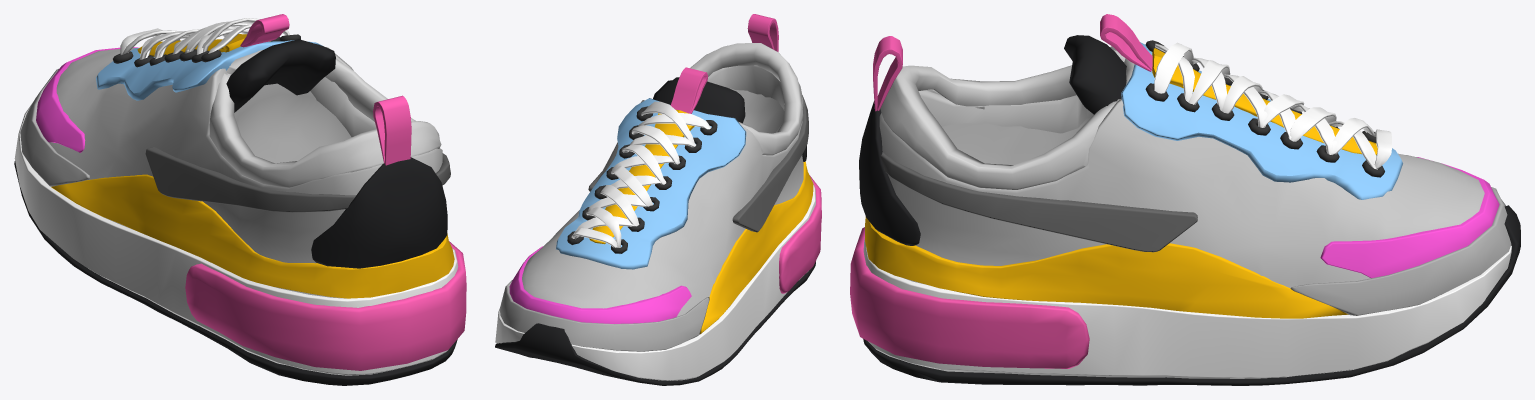
File: Air Max Dia.fbx
3 renders of one model, left to right at view 1: azimuth 30°, elevation 25°; view 2: azimuth 150°, elevation 25°; view 3: azimuth 270°, elevation 25°, orthographic. The views are drawn at different scales.
Visible parts, largest first — view 1: shose_Body, Back_Sole, polySurface337, Back, Upper, Shose_Cover, Logo, Upper1, Lower_Sole4, Lace_Panel, Shose_Lace, Bottom (+5 smaller); view 2: shose_Body, Lace_Panel, Shose_Lace, Bottom, polySurface337, Upper, Top, Lower_Sole4, Logo, Back_Sole, Clinders, Upper1 (+4 smaller); view 3: shose_Body, polySurface337, Back_Sole, Upper, Lace_Panel, Logo, Shose_Lace, Bottom, Lower_Sole4, Top, Back, Shose_Cover (+5 smaller).
Part boxes in pixels (bbox=[...]): shose_Body: bbox=[14, 47, 458, 375]; Back_Sole: bbox=[185, 241, 466, 370]; polySurface337: bbox=[51, 174, 454, 298]; Back: bbox=[311, 157, 447, 268]; Upper: bbox=[209, 59, 441, 188]; Shose_Cover: bbox=[234, 83, 351, 163]; Logo: bbox=[145, 147, 450, 212]; Upper1: bbox=[226, 39, 335, 112]; Lower_Sole4: bbox=[14, 161, 457, 385]; Lace_Panel: bbox=[96, 40, 322, 100]; Shose_Lace: bbox=[120, 18, 289, 59]; Bottom: bbox=[20, 69, 89, 186]; shose_Body: bbox=[495, 65, 815, 380]; Lace_Panel: bbox=[556, 98, 746, 269]; Shose_Lace: bbox=[571, 101, 710, 247]; Bottom: bbox=[499, 280, 709, 351]; polySurface337: bbox=[700, 161, 813, 334]; Upper: bbox=[690, 43, 803, 155]; Top: bbox=[509, 246, 691, 323]; Lower_Sole4: bbox=[495, 261, 815, 385]; Logo: bbox=[588, 95, 808, 232]; Back_Sole: bbox=[779, 175, 821, 293]; Clinders: bbox=[567, 106, 717, 253]; Upper1: bbox=[653, 77, 745, 123]; shose_Body: bbox=[863, 46, 1511, 378]; polySurface337: bbox=[865, 216, 1348, 318]; Back_Sole: bbox=[850, 227, 1089, 368]; Upper: bbox=[880, 50, 1125, 189]; Lace_Panel: bbox=[1121, 42, 1402, 199]; Logo: bbox=[880, 152, 1197, 252]; Shose_Lace: bbox=[1154, 42, 1391, 169]; Bottom: bbox=[1290, 187, 1511, 315]; Lower_Sole4: bbox=[863, 205, 1520, 385]; Top: bbox=[1320, 157, 1499, 278]; Back: bbox=[859, 101, 920, 245]; Shose_Cover: bbox=[930, 91, 1091, 164].
Size of the model in its own units: 1.01 by 1.16 by 2.28.
